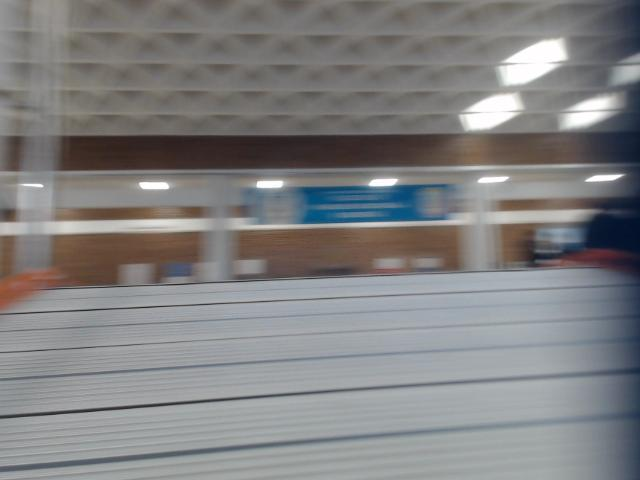rampUp: (0, 268, 639, 479)
ramps-railing: (14, 0, 66, 271)
